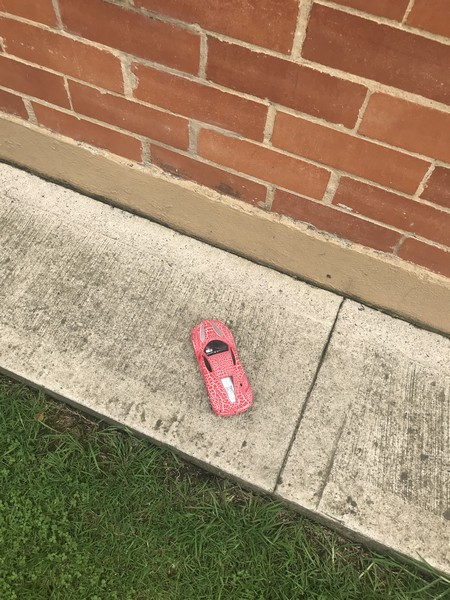RC: (186, 319, 257, 419)
